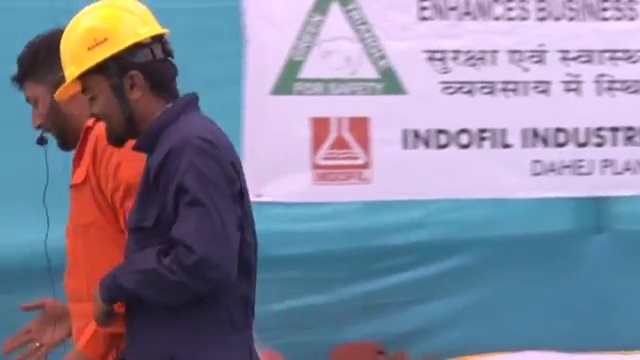helmet: (55, 2, 169, 103)
helmet_off: (16, 27, 82, 153)
helmet_on: (54, 2, 194, 147)
person: (51, 1, 259, 360), (1, 26, 146, 359)
